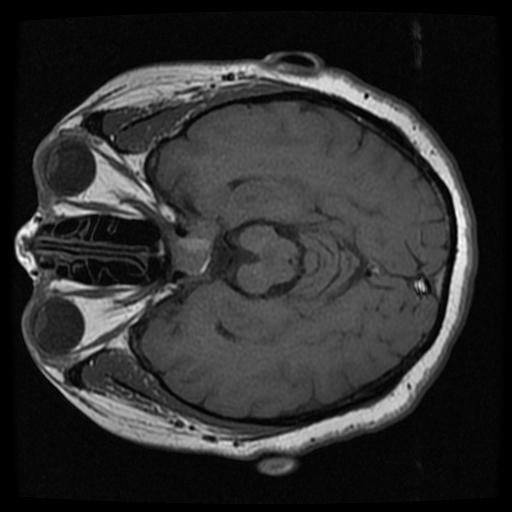pituitary tumour: (169, 220, 219, 276)
